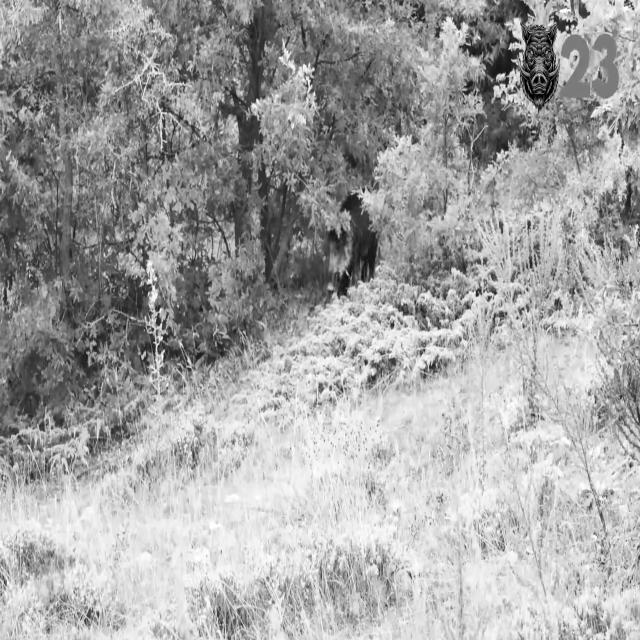boar: (327, 194, 377, 294), (520, 21, 561, 109)
